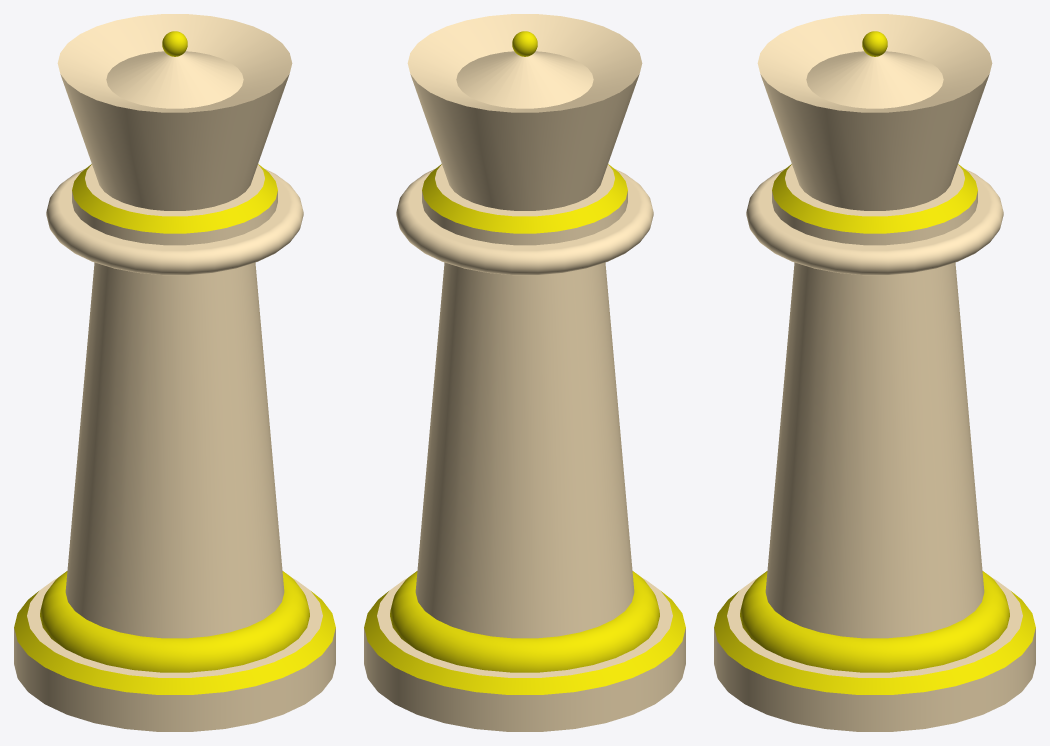
File: Premium_W_Queen.gltf
3 renders of one model, left to right at view 1: azimuth 30°, elevation 25°; view 2: azimuth 150°, elevation 25°; view 3: azimuth 270°, elevation 25°, orthographic.
Parts seen in each view (by area): view 1: Queen; view 2: Queen; view 3: Queen.
Boxes of the visible parts, left/top/right/bottom form: Queen: left=14, top=14, right=335, bottom=731; Queen: left=364, top=14, right=685, bottom=731; Queen: left=714, top=14, right=1035, bottom=731.
Bounding box in the file's own units: 0.0284 × 0.0619 × 0.0286.
